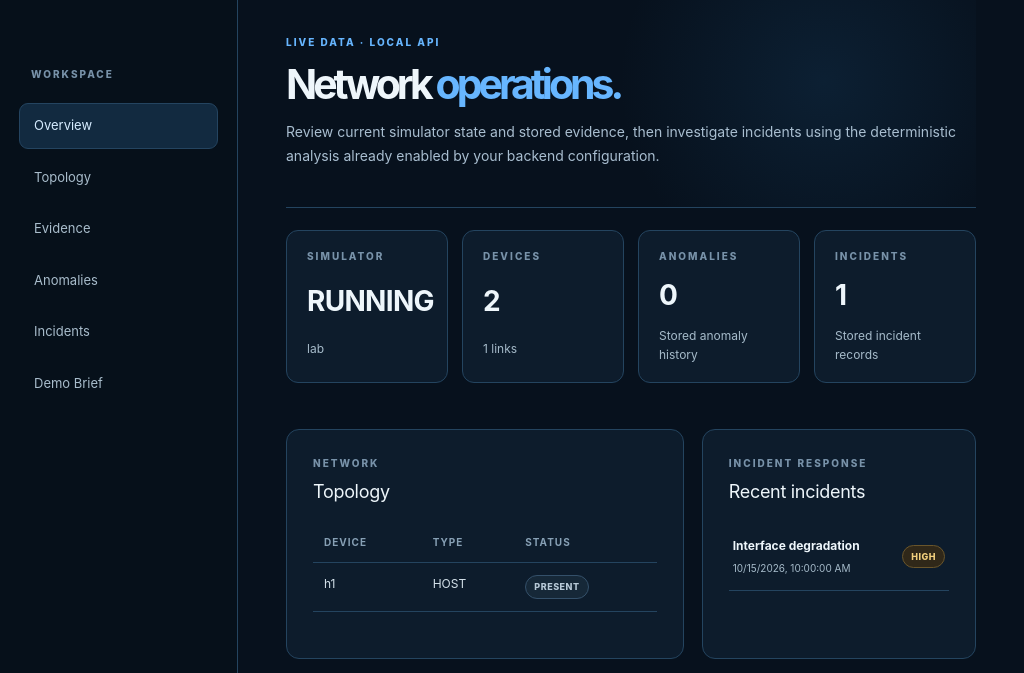
loads incident evidence and distinguishes candidate scores from probabilities
Click the button "Interface degradation 10/15/2026, 10:00:00 AM HIGH". click: click(839, 557)
box: [729,523,949,591]
(page scrolled)
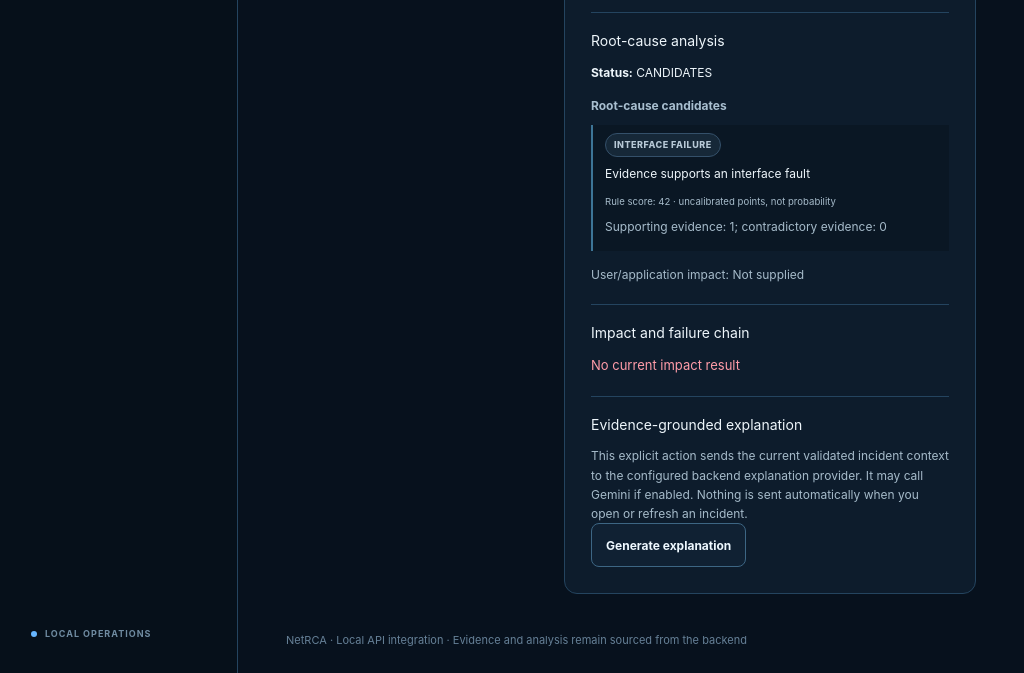
Result: the text "Evidence supports an interface fault" is shown at [605,166,810,182]
Result: the text "Rule score: 42 · uncalibrated points, not probability" is shown at [605,196,836,207]
Result: the heading "Impact and failure chain" is shown at [591,324,750,341]
Click the button "Generate explanation". click: click(669, 545)
box: [591,523,746,567]
(page scrolled)
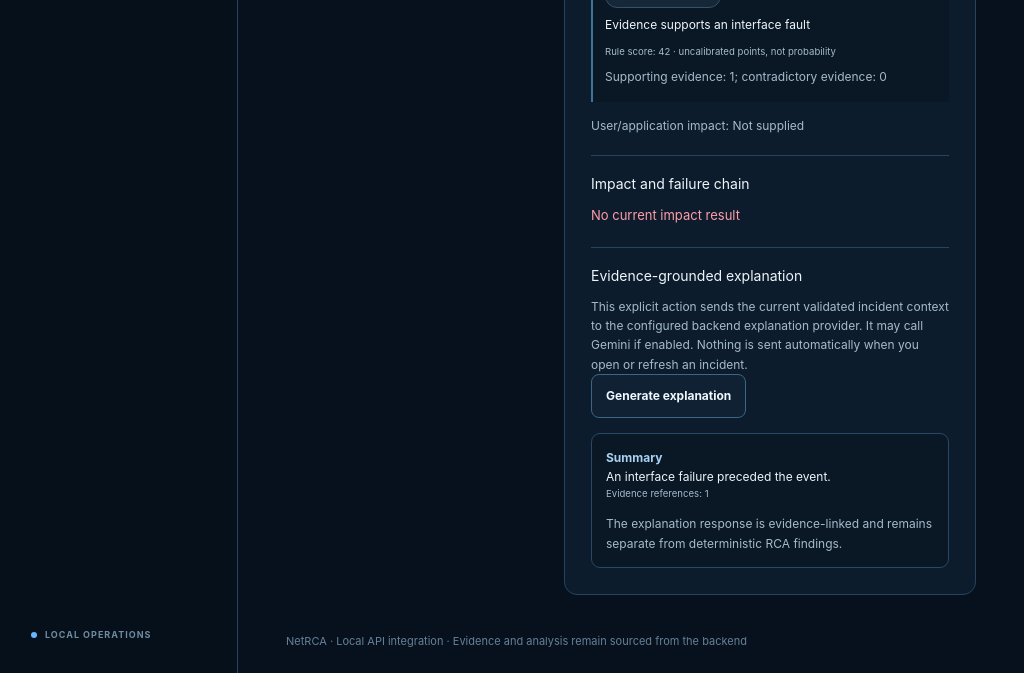
Result: the text "An interface failure preceded the event." is shown at [606,469,831,484]
